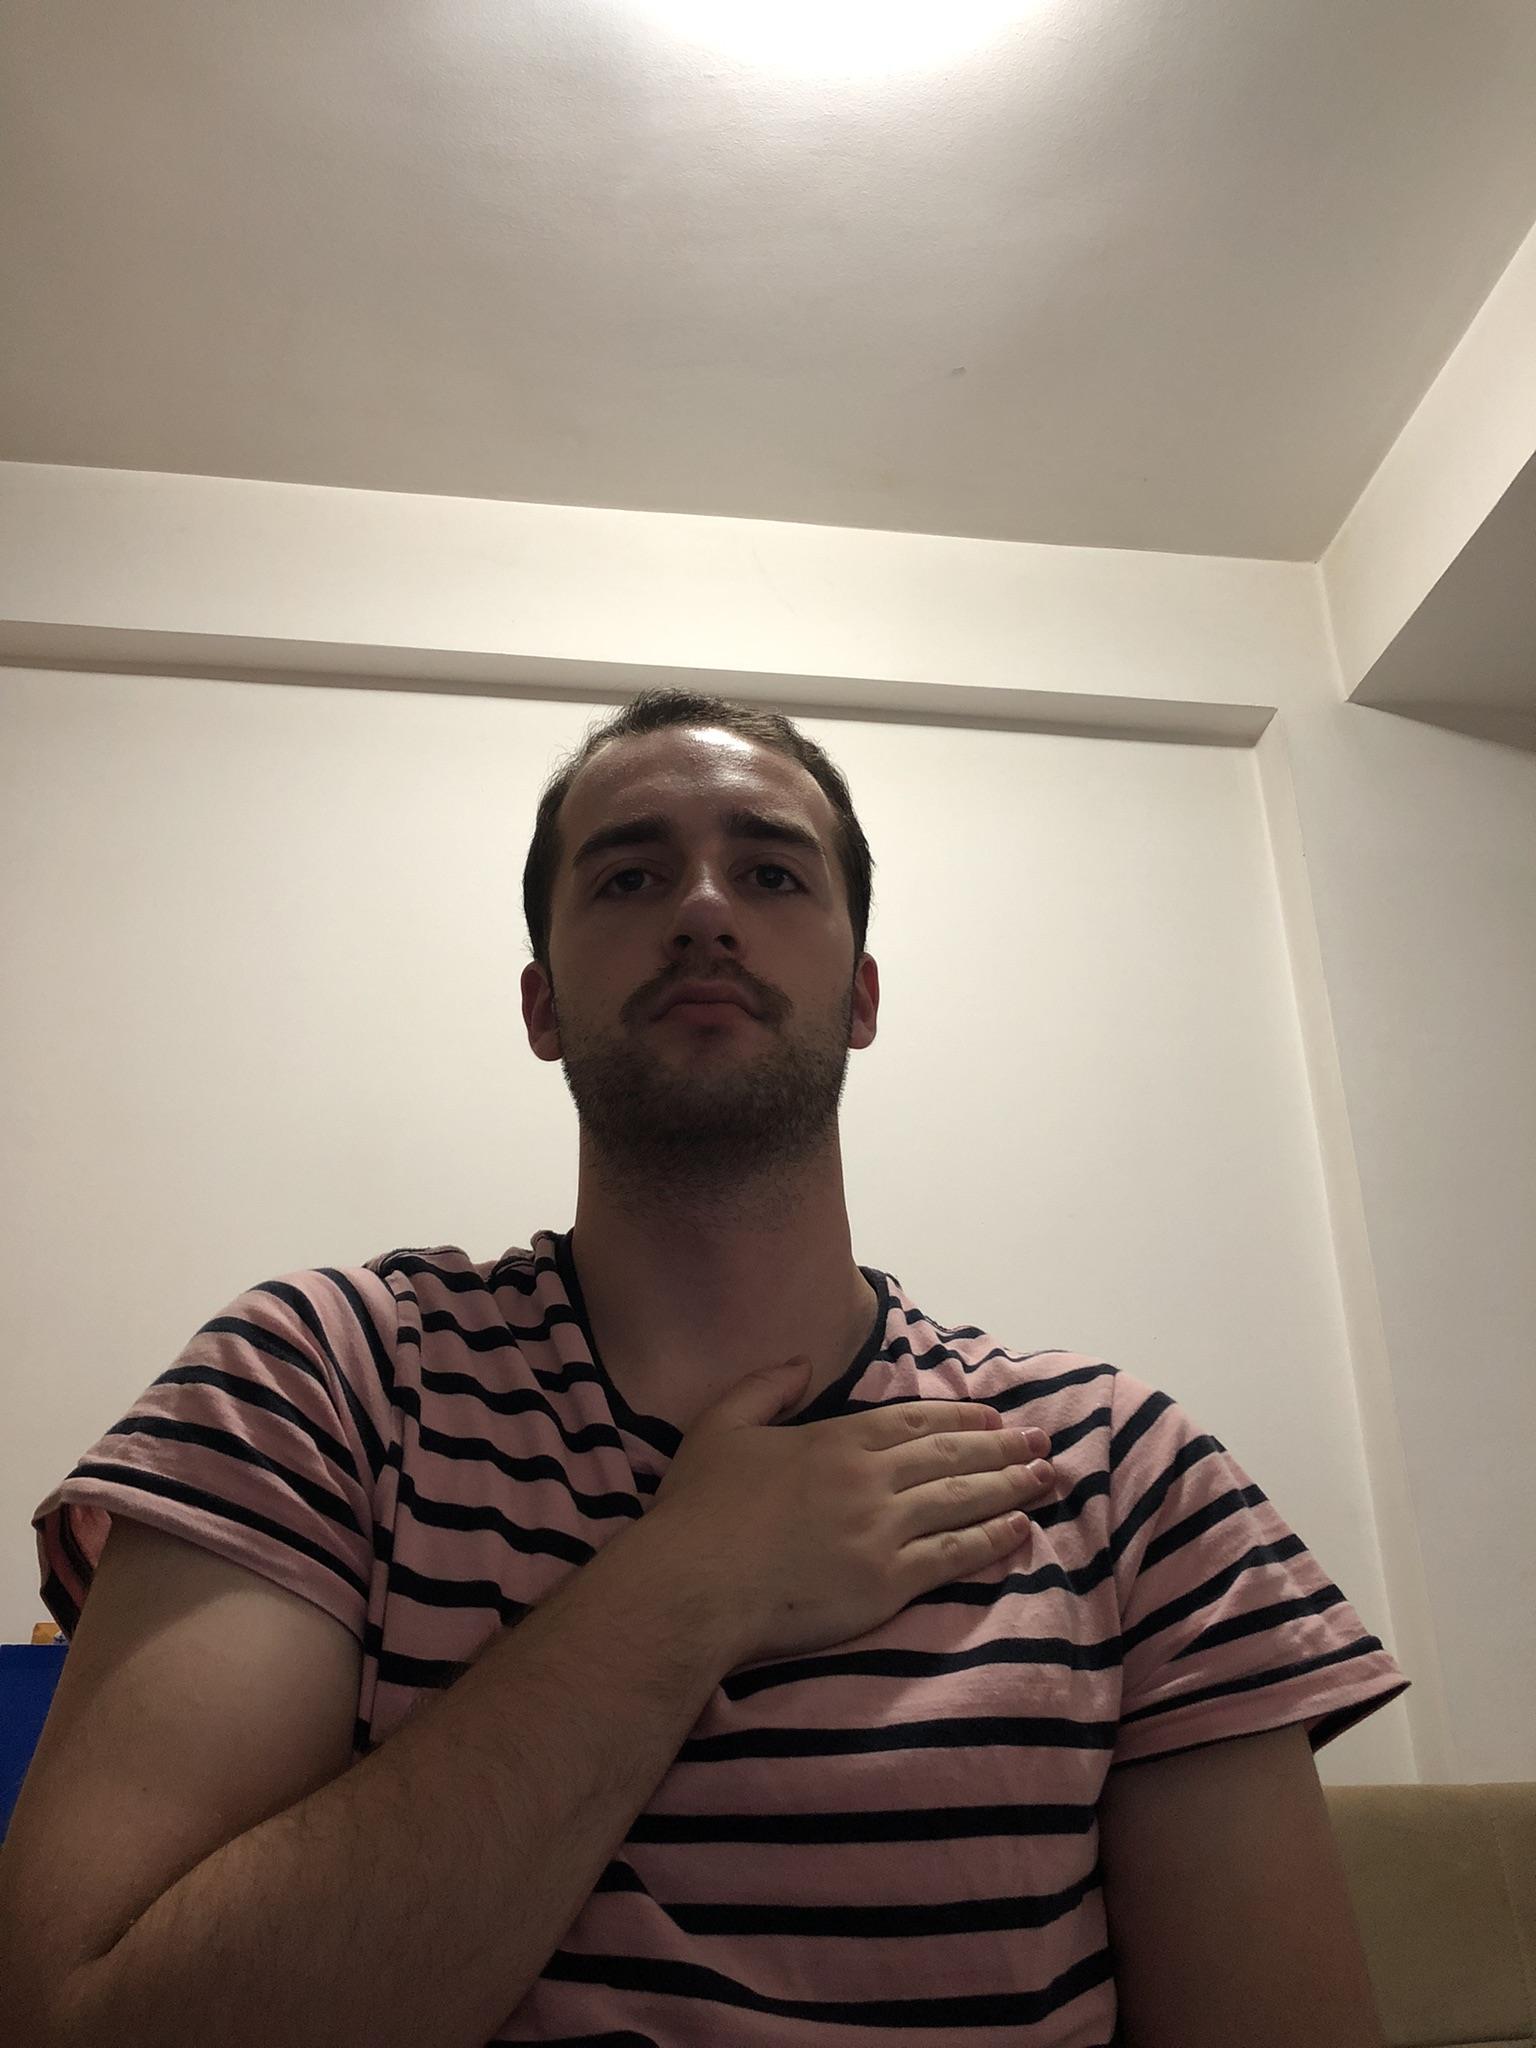Please: (6, 1348, 1063, 2048)
